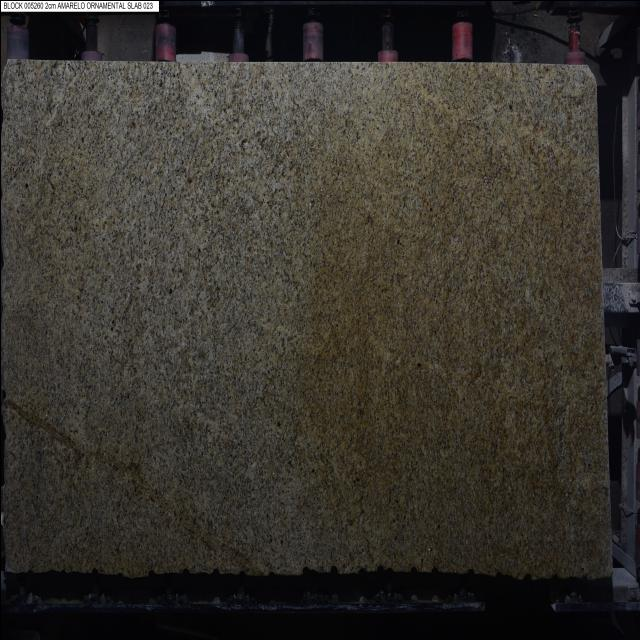chapa: (1, 60, 610, 578)
veio: (328, 564, 338, 574), (374, 564, 384, 572), (408, 565, 418, 573)
